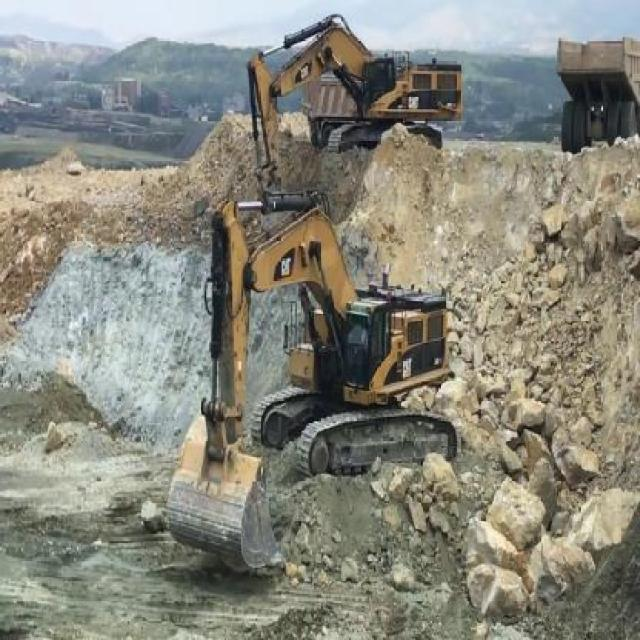dump_truck: (544, 31, 639, 155), (303, 79, 345, 146)
excavator: (152, 185, 462, 588), (242, 14, 464, 191)
